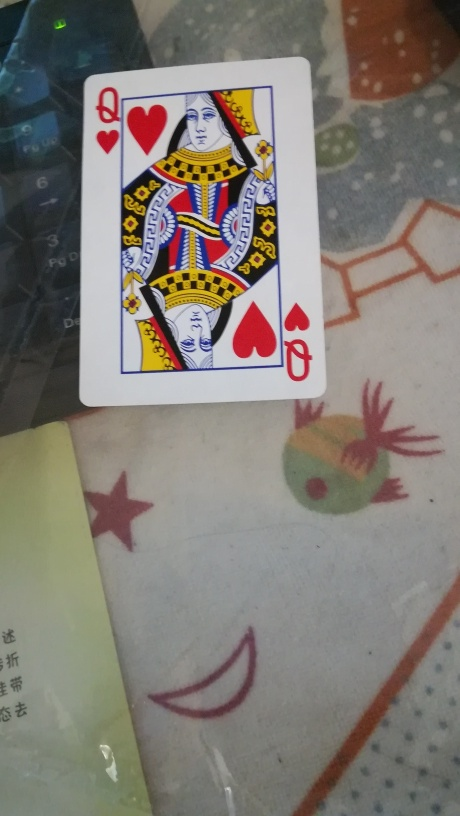hx q: (75, 50, 331, 410)
